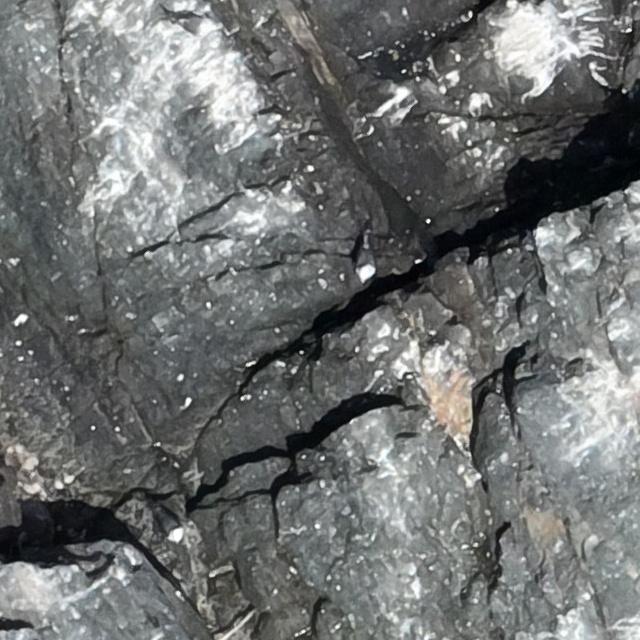umineko: (157, 511, 181, 540), (178, 16, 210, 35), (358, 246, 375, 281)
